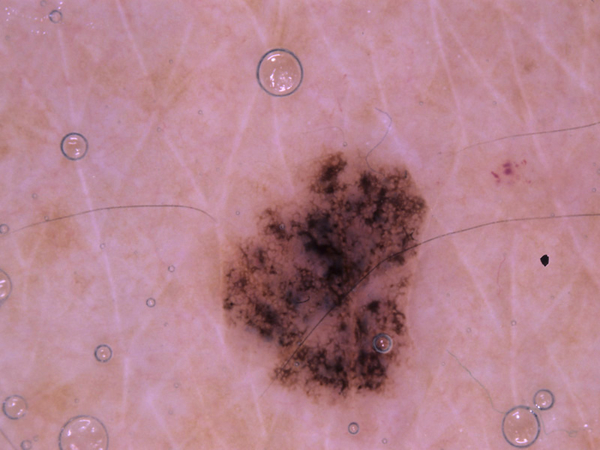Detected Lesion: (212, 142, 433, 417)
